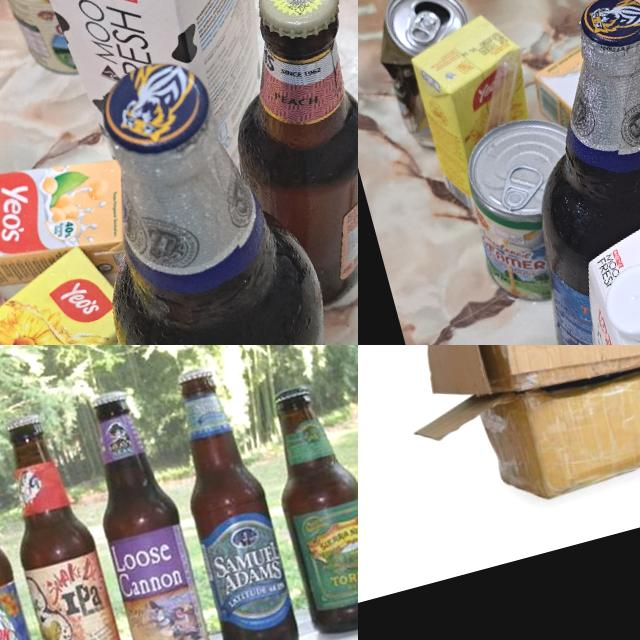aba de lata: (490, 152, 546, 213), (401, 4, 443, 46)
caixinha: (2, 0, 319, 208), (398, 7, 552, 213), (0, 124, 151, 321), (526, 17, 640, 211), (0, 237, 155, 345)
garrafa de vidro: (50, 35, 352, 345), (476, 0, 640, 345), (193, 0, 358, 319), (152, 356, 310, 640), (67, 379, 220, 640), (0, 405, 136, 640), (253, 376, 358, 640), (0, 426, 53, 640)
lata: (456, 102, 610, 310), (368, 0, 498, 151), (0, 0, 92, 88)
papelão: (407, 345, 640, 529), (394, 345, 640, 423)
tampa plástica: (593, 252, 640, 345)
